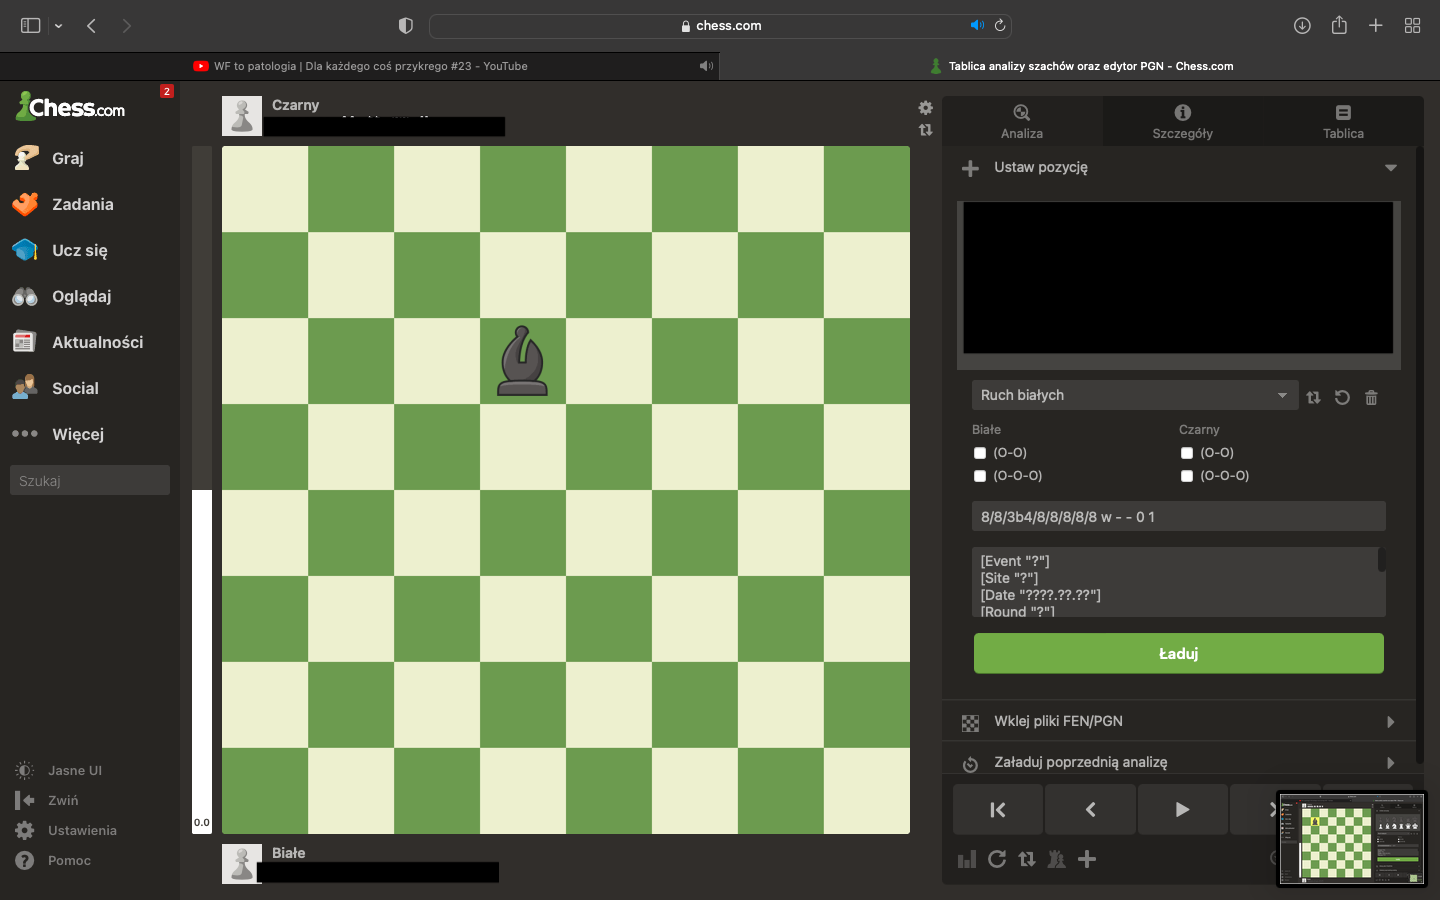black_bishop: (495, 325, 548, 398)
